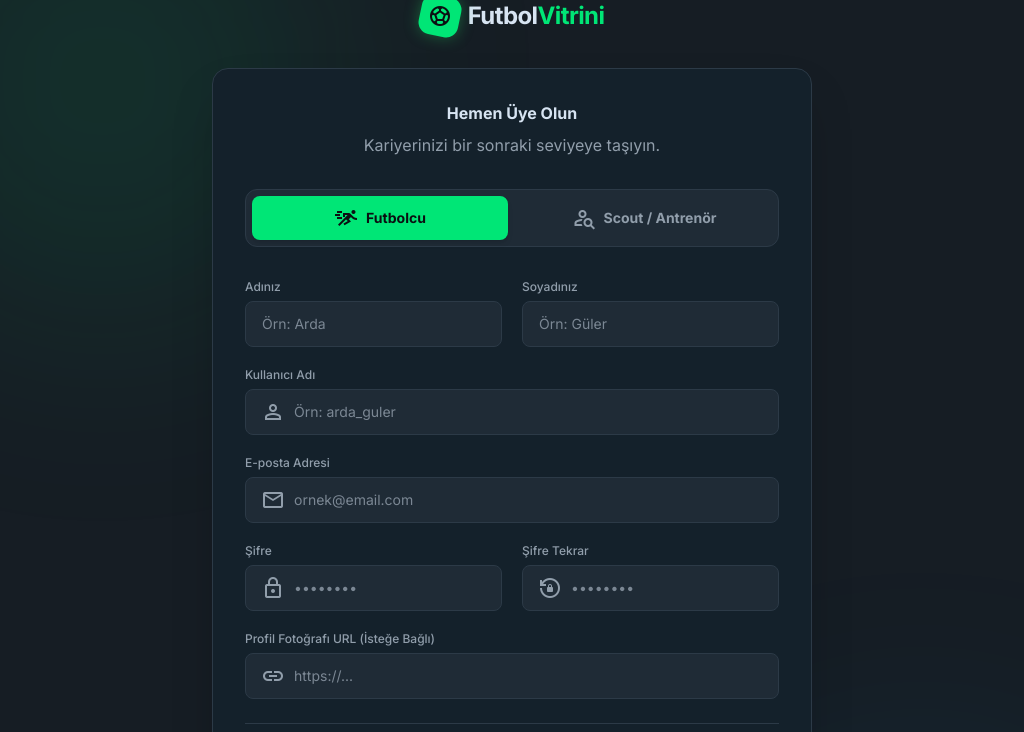
RegisterPage › kulup rolunde futbolcu alanlari yerine kurum alanlari sorulur
Click the button "Scout / Antrenör" at (644, 218), box [516, 196, 772, 240]
(page scrolled)
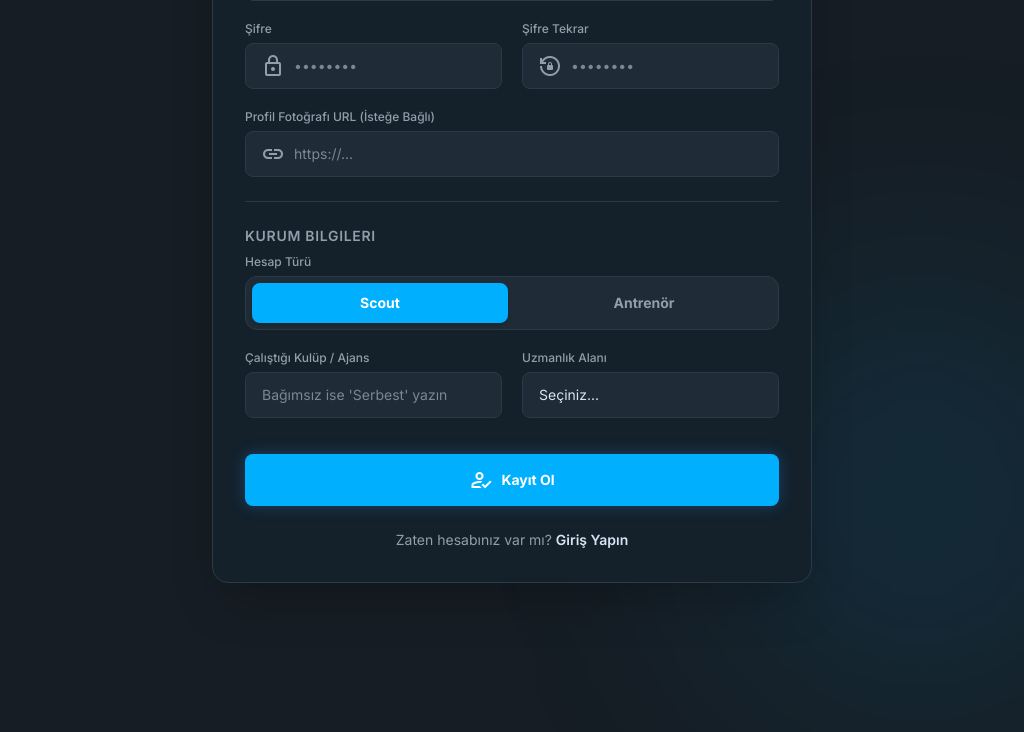
Now the field labelled "Çalıştığı Kulüp / Ajans" is shown, box [245, 372, 502, 418]
Click the button "Kayıt Ol" at (512, 480), box [245, 454, 779, 506]
(page scrolled)
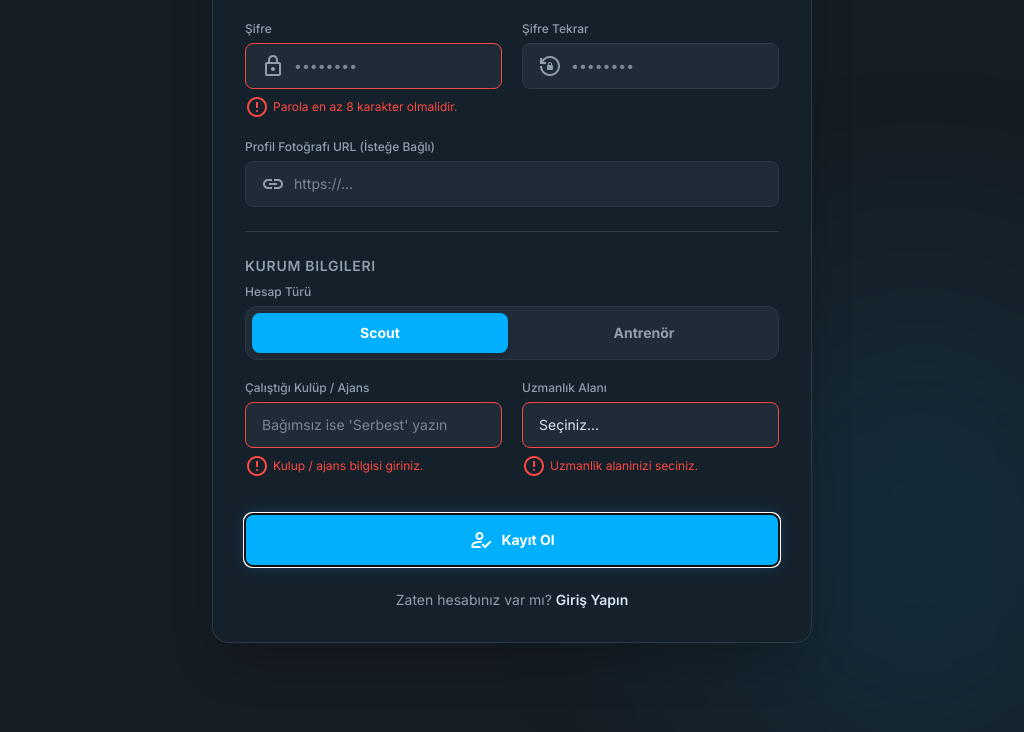
Now the text "Kulup / ajans bilgisi giriniz." is shown, box [245, 452, 423, 480]
